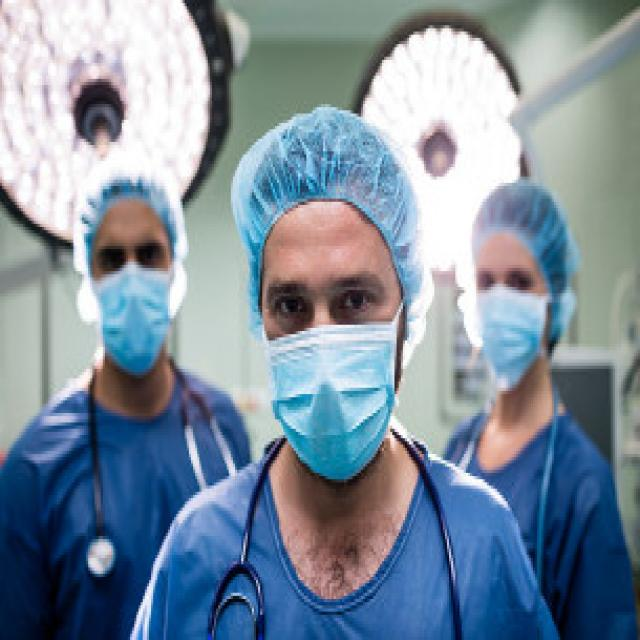mask: (259, 212, 400, 482), (84, 199, 176, 375), (465, 232, 542, 380)
